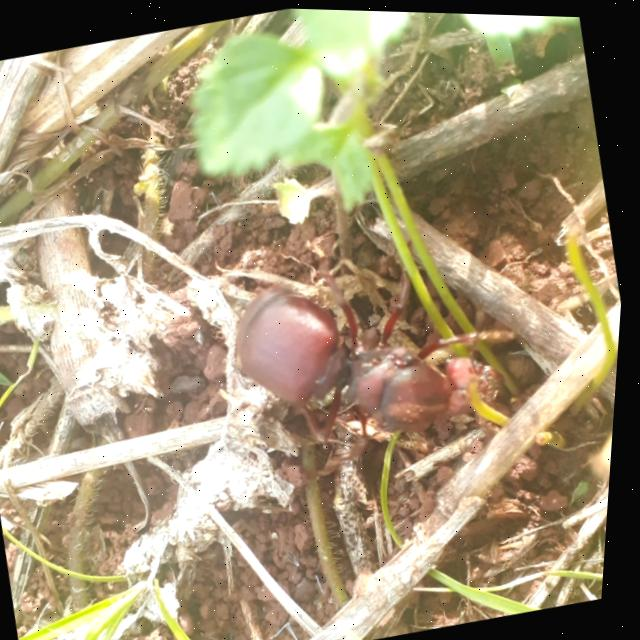Alive-Female-Dealate: (218, 217, 544, 468)
